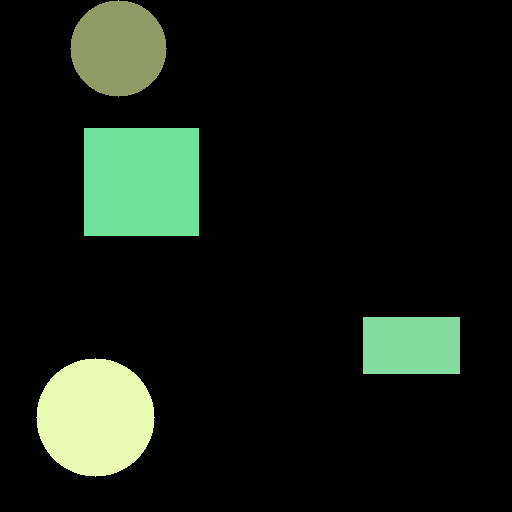circle: (36, 358, 154, 476), (70, 0, 166, 96)
rectangle: (363, 317, 459, 373)
square: (84, 128, 198, 235)
